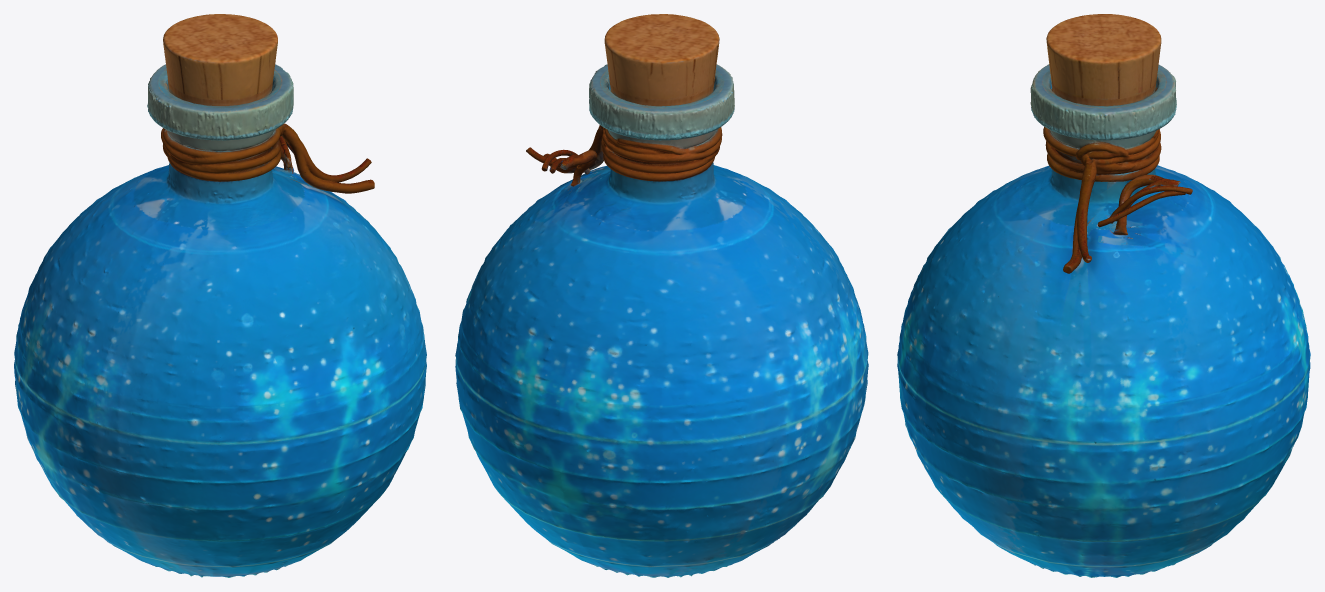
Rendered from Meshy_AI_A_small_medieval_fant_1231152546_texture.fbx.
3 views of the same model, side by side, from view 1: azimuth 30°, elevation 25°; view 2: azimuth 150°, elevation 25°; view 3: azimuth 270°, elevation 25° (orthographic).
Visible parts, largest first — view 1: node_fdda6c6c_4916_4f5d_8274_bf7a881b6f65_mesh0; view 2: node_fdda6c6c_4916_4f5d_8274_bf7a881b6f65_mesh0; view 3: node_fdda6c6c_4916_4f5d_8274_bf7a881b6f65_mesh0.
Part boxes in pixels (x1,y1,x2,y2): node_fdda6c6c_4916_4f5d_8274_bf7a881b6f65_mesh0: (14,14,426,577); node_fdda6c6c_4916_4f5d_8274_bf7a881b6f65_mesh0: (455,14,868,577); node_fdda6c6c_4916_4f5d_8274_bf7a881b6f65_mesh0: (897,14,1310,577).
Size of the model in its own units: 139 by 190 by 139.
Materials: 1 (1 with a texture image).
